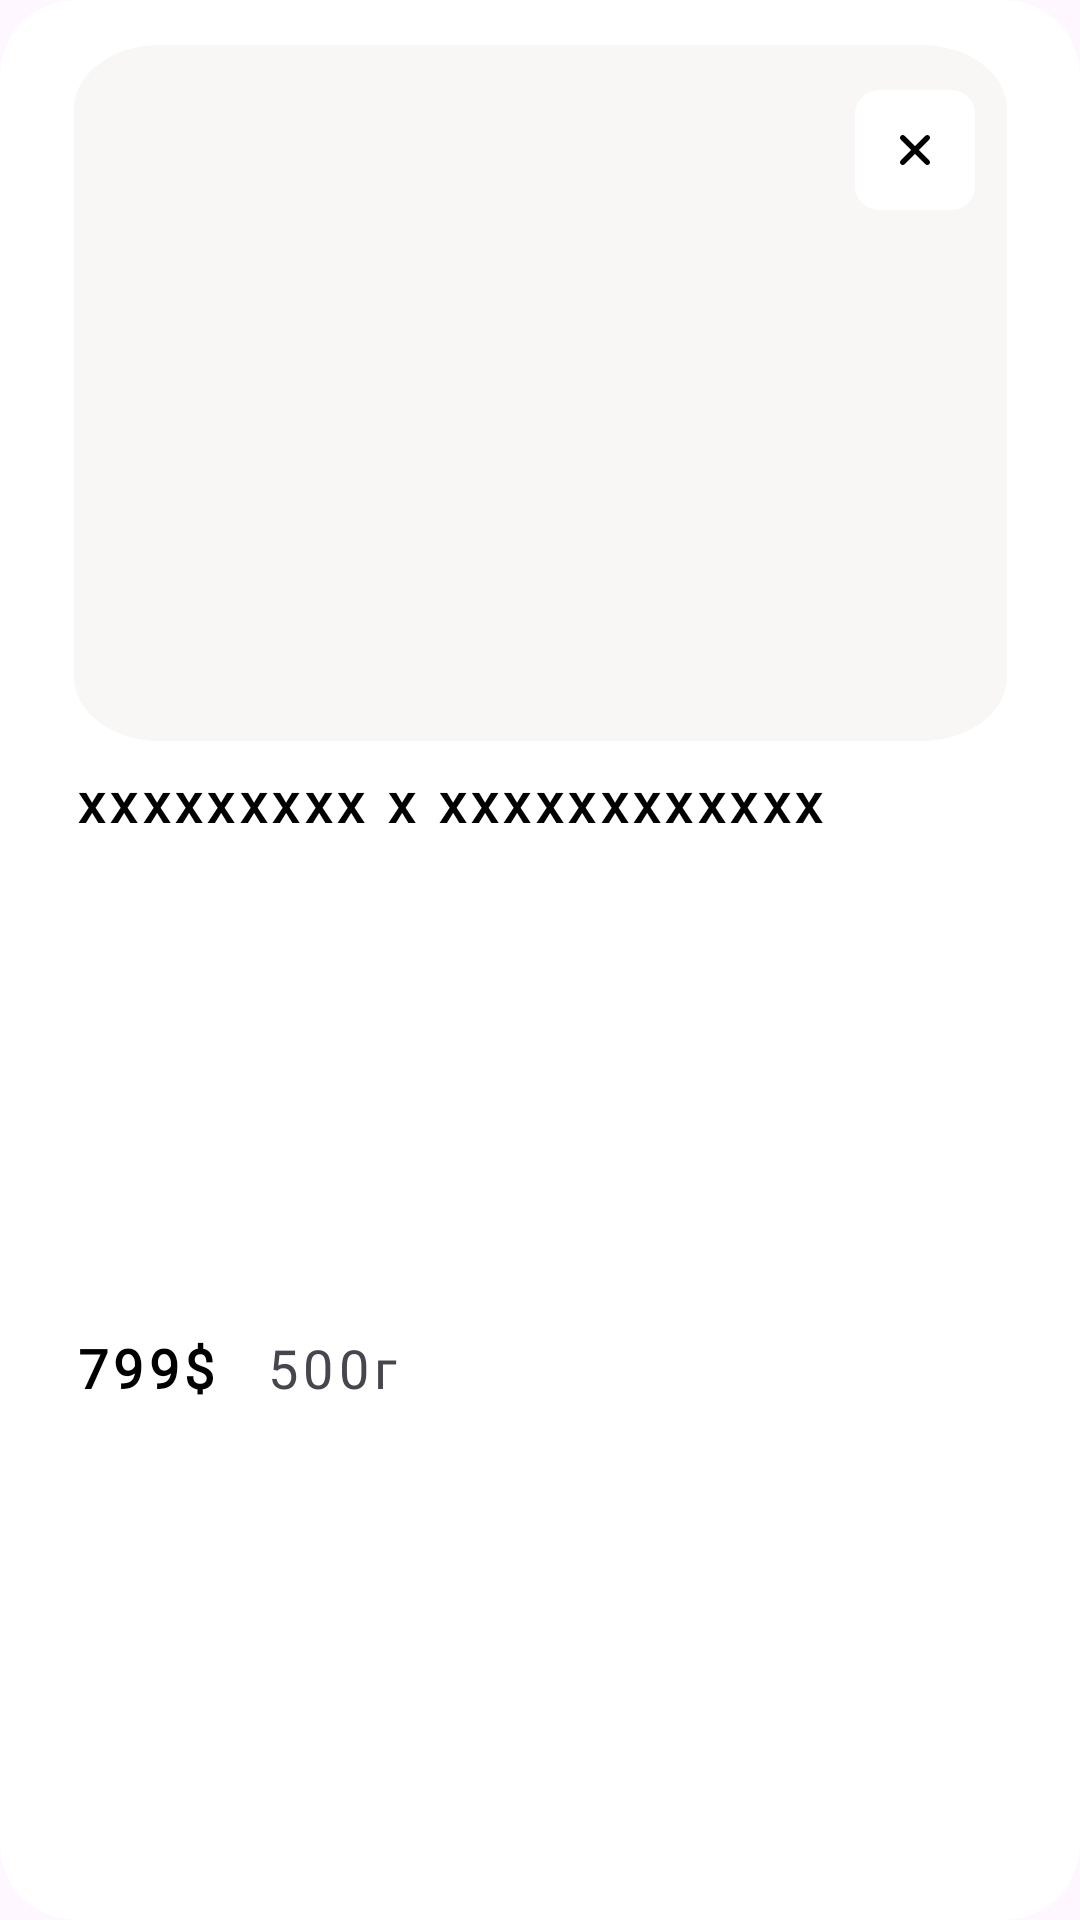

Where to tap for icons on this 1080 × 1920 app screen, as (x=x, y=y):
back dialog: (x=915, y=150)
